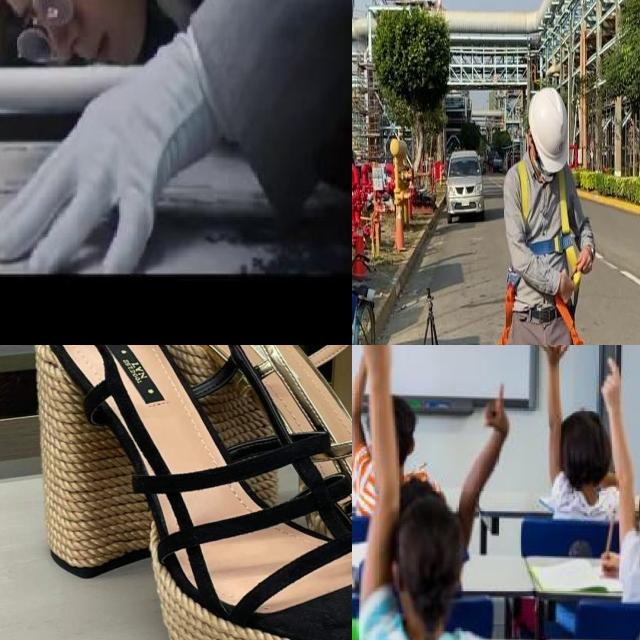Harness: (529, 170, 578, 272), (556, 295, 585, 345), (497, 275, 516, 345)
Sandals: (14, 345, 352, 640), (155, 345, 352, 630)
face_nomask: (0, 0, 165, 77)
glasses: (10, 0, 75, 69)
hand_glove: (0, 64, 212, 273)
hand_noglove: (483, 384, 510, 436), (601, 356, 621, 412), (357, 345, 390, 371), (533, 345, 571, 364), (600, 552, 620, 578)
head_nohelmet: (376, 485, 474, 640), (556, 409, 614, 493), (361, 399, 426, 464)
person: (0, 0, 352, 345)
